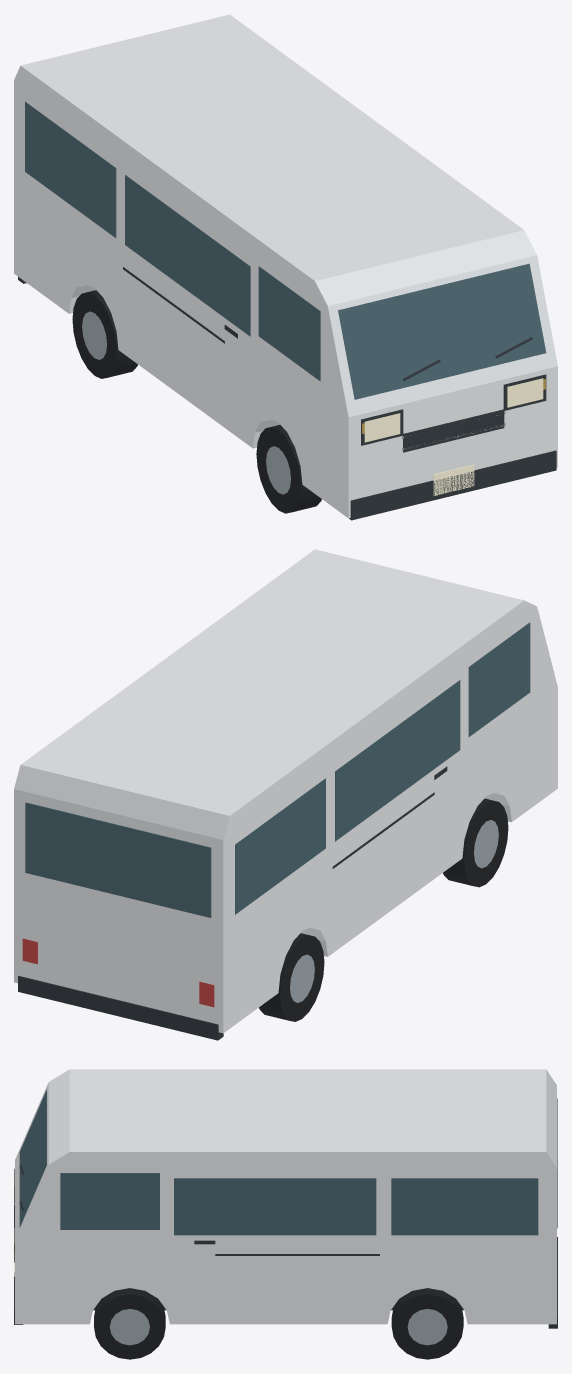
Rendered from hiace.glb.
The picture shows the model from 3 angles, top to bottom: view 1: azimuth 30°, elevation 25°; view 2: azimuth 150°, elevation 25°; view 3: azimuth 270°, elevation 25°; orthographic projection. The views are drawn at different scales.
Parts seen in each view (by area): view 1: van-body, side-window (×3), windshield, tire (×2), front-bumper, grille, wheel-hub (×2), headlamp (×2), number-plate; view 2: van-body, side-window (×3), rear-window, tire (×2), rear-bumper, wheel-hub (×2); view 3: van-body, side-window (×3), tire (×2), wheel-hub (×2), windshield.
Boxes of the visible parts, left/top/right/bottom form: van-body: left=14, top=14, right=557, bottom=518; side-window (×3): left=25, top=101, right=320, bottom=381; windshield: left=338, top=263, right=546, bottom=399; tire (×2): left=72, top=290, right=321, bottom=513; front-bumper: left=349, top=450, right=556, bottom=520; grille: left=403, top=409, right=504, bottom=452; wheel-hub (×2): left=82, top=311, right=290, bottom=494; headlamp (×2): left=364, top=378, right=543, bottom=442; number-plate: left=433, top=464, right=474, bottom=495; van-body: left=14, top=549, right=557, bottom=1033; side-window (×3): left=235, top=622, right=530, bottom=914; rear-window: left=25, top=802, right=211, bottom=917; tire (×2): left=259, top=798, right=508, bottom=1021; rear-bumper: left=18, top=975, right=223, bottom=1040; wheel-hub (×2): left=290, top=820, right=498, bottom=1002; van-body: left=15, top=1069, right=556, bottom=1324; side-window (×3): left=60, top=1173, right=538, bottom=1235; tire (×2): left=94, top=1288, right=463, bottom=1359; wheel-hub (×2): left=109, top=1309, right=447, bottom=1345; windshield: left=19, top=1090, right=46, bottom=1227.
Size of the model in its own units: 1.7 by 1.98 by 4.69.
